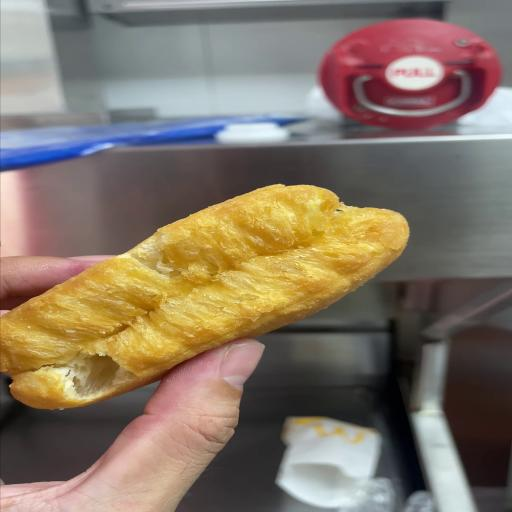brand_golden_defect: (0, 185, 408, 408)
